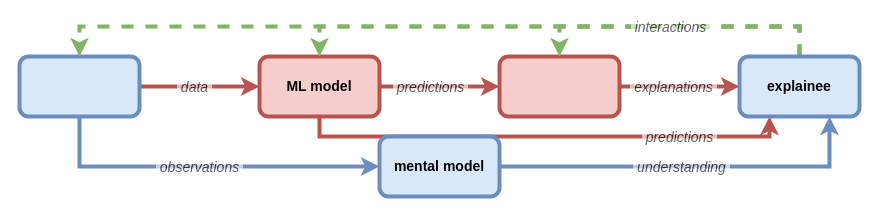
Image size: 878x215. Some labels were removed from this diagram. Here are the shapes that lost their labels. From the top down, the box of each, then its label:
(17, 54, 141, 118): phenomenon
(497, 54, 621, 118): explainer
